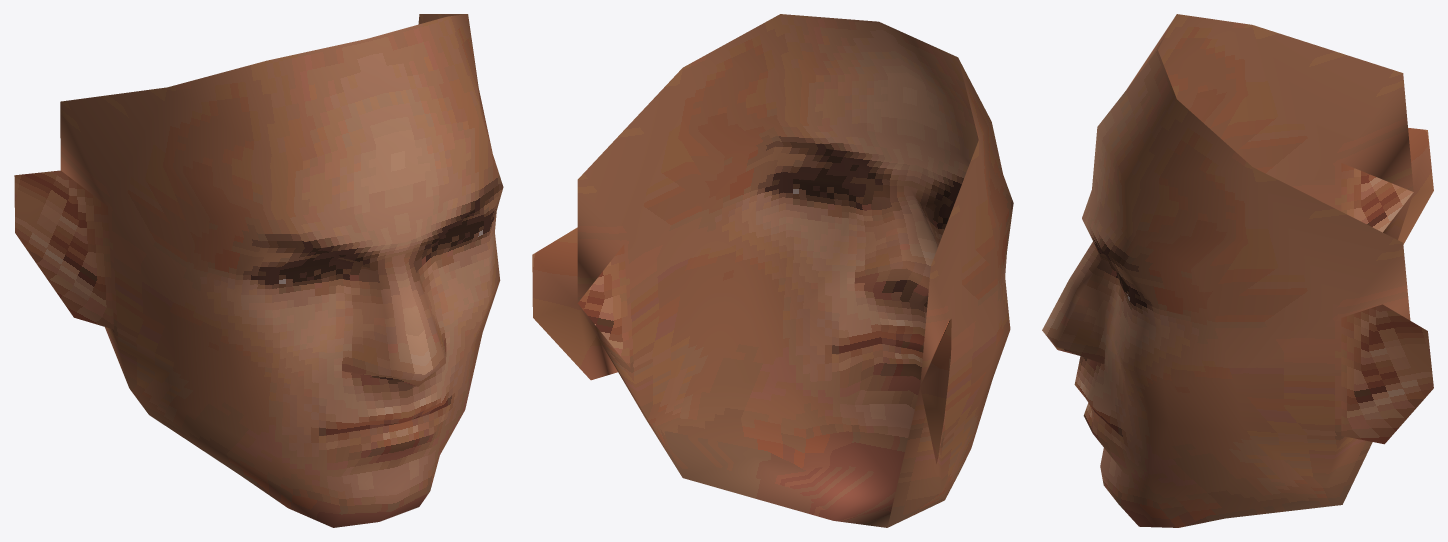
3 views of the same model, side by side, from view 1: azimuth 30°, elevation 25°; view 2: azimuth 150°, elevation 25°; view 3: azimuth 270°, elevation 25° (orthographic). The views are drawn at different scales.
Bounding box in the file's own units: 17.52 × 18.64 × 14.43.
Materials: 1 (1 with a texture image).
